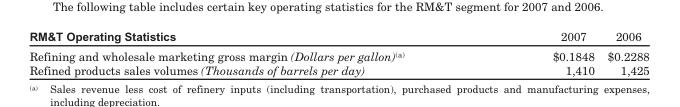table: (28, 29, 648, 76)
table column: (28, 29, 477, 76), (477, 29, 600, 76), (600, 29, 648, 76)
table column header: (28, 29, 648, 45)
table row: (28, 45, 648, 62), (28, 29, 648, 45), (28, 62, 648, 76)
